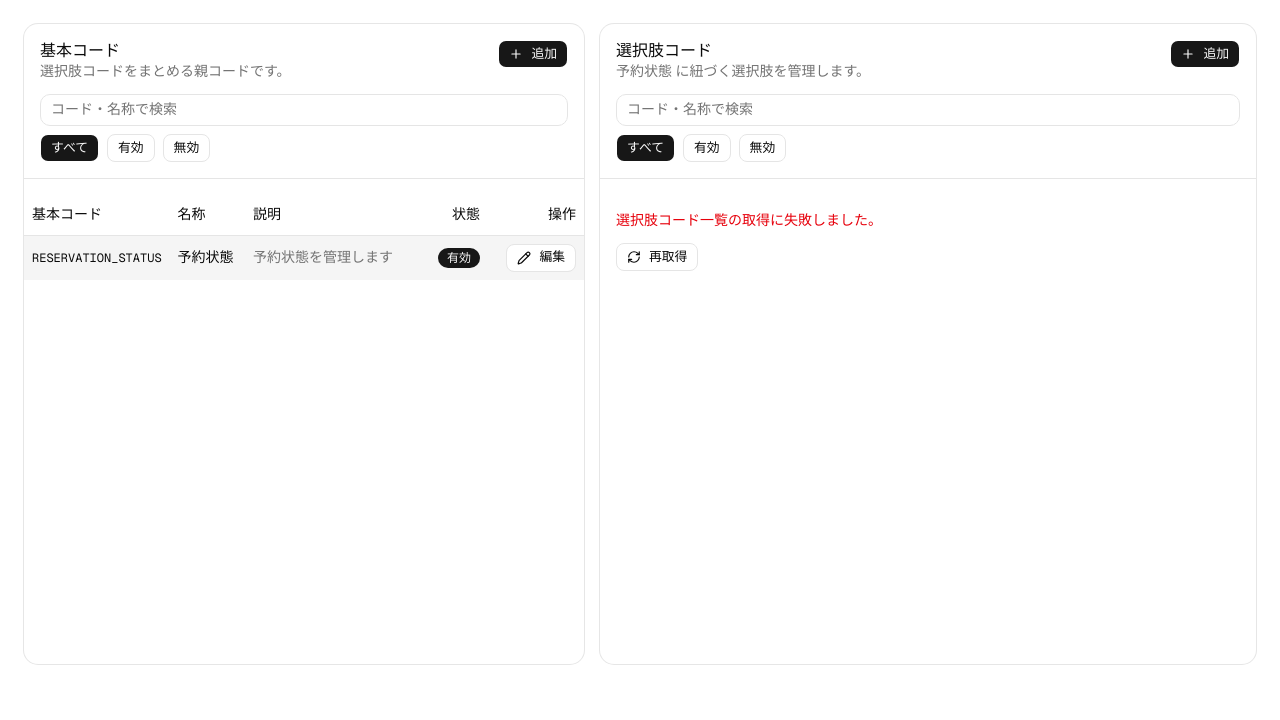
Test: StandardCodeMasterPage › 選択肢コード一覧の再取得に成功すると、一覧を表示する
Expected: the text "選択肢コード一覧の取得に失敗しました。" is shown, [616,213,882,228]
Click the button "再取得" at (657, 257), box [616,243,698,271]
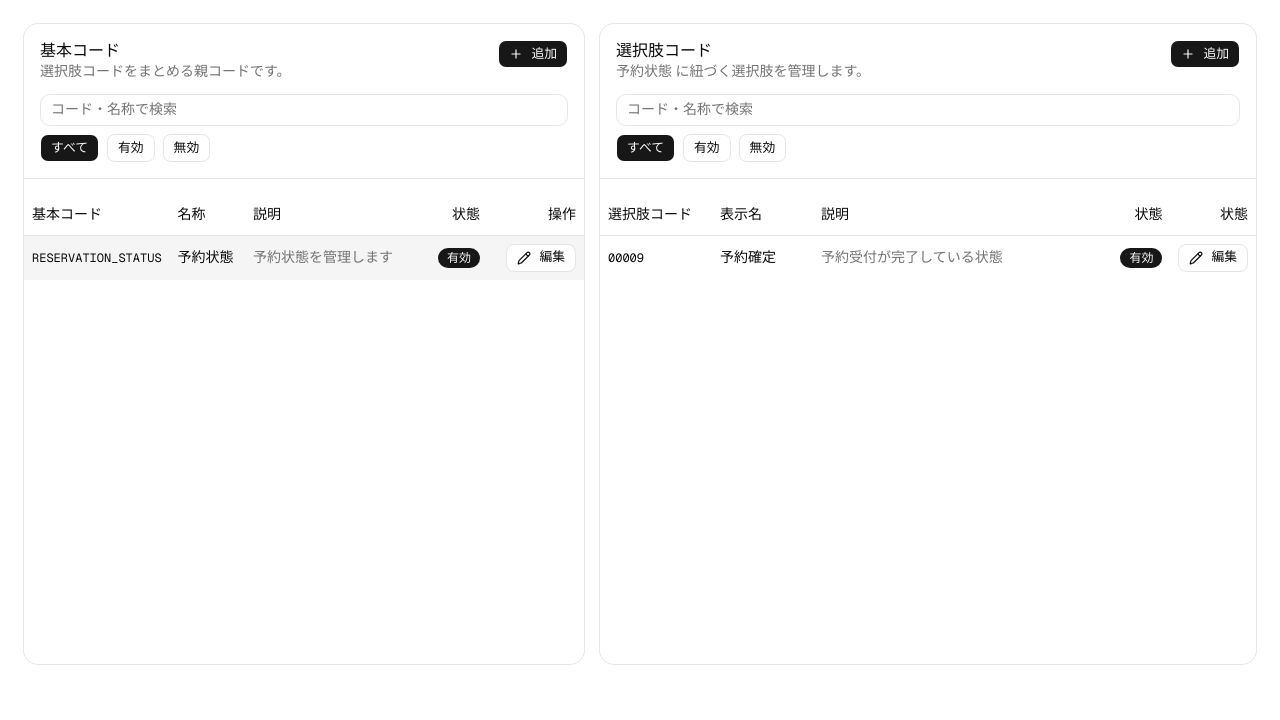
Expected: the text "予約確定" is shown, [720,250,776,264]
